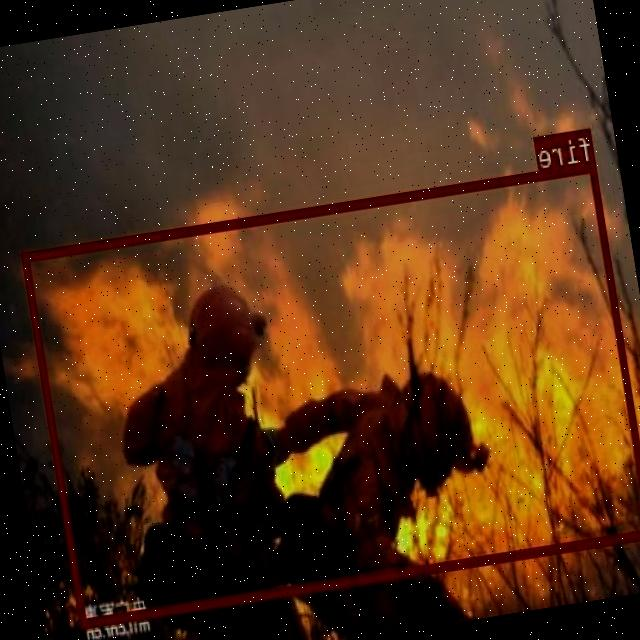fire: (23, 161, 640, 626)
